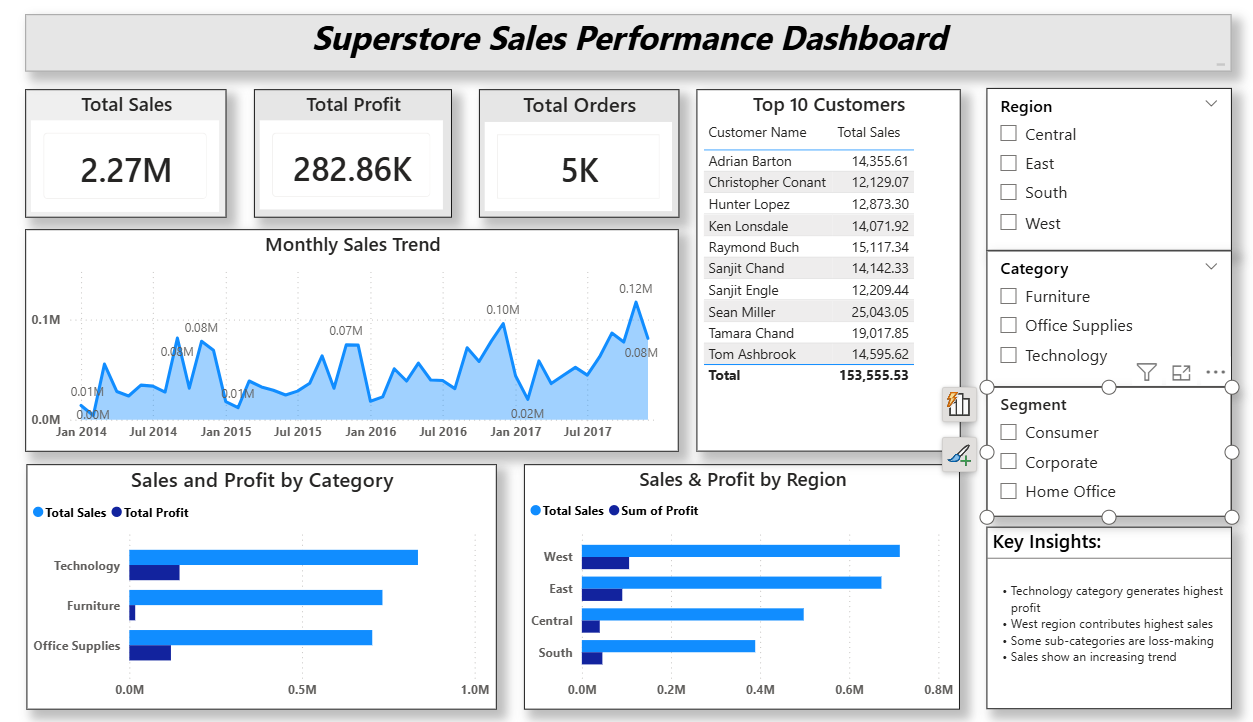

This screenshot's page, from the dashboard's own definition file:
{"tool":"powerbi","page":{"name":"Page 1","canvas":[1280,720],"ordinal":0},"visuals":[{"type":"cardVisual","title":"Total Sales","fields":{"Data":["superstore superstore.Total Sales"]},"box":[59.9,99,196.9,126],"z":0},{"type":"cardVisual","title":"Total Profit","fields":{"Data":["superstore superstore.Total Profit"]},"box":[283.7,99,193.2,126],"z":1000},{"type":"cardVisual","title":"Total Orders","fields":{"Data":["superstore superstore.Total Orders"]},"box":[503.8,99,195.7,126],"z":2000},{"type":"textbox","title":"Superstore Sales Performance Dashboard","box":[59.9,25.7,1180,56.3],"z":4000},{"type":"lineChart","title":"Monthly Sales Trend","fields":{"Y":["superstore superstore.Total Sales"],"Category":["superstore superstore.Order Date.Variation.Date Hierarchy.Year","superstore superstore.Order Date.Variation.Date Hierarchy.Month"]},"box":[59.9,236,639.5,217.7],"z":5000},{"type":"clusteredBarChart","title":"Sales and Profit by Category","fields":{"Y":["superstore superstore.Total Sales","superstore superstore.Total Profit"],"Category":["superstore superstore.Category"]},"box":[61.1,465.9,459.8,239.7],"z":6000},{"type":"clusteredBarChart","title":"Sales & Profit by Region","fields":{"Category":["superstore superstore.Region"],"Y":["superstore superstore.Total Sales","Sum(superstore superstore.Profit)"]},"box":[547.8,465.9,426.8,239.7],"z":6001},{"type":"tableEx","title":"Top 10 Customers","fields":{"Values":["superstore superstore.Customer Name","superstore superstore.Total Sales"]},"box":[716.6,99,258,354.6],"z":6002},{"type":"slicer","fields":{"Values":["superstore superstore.Region"]},"box":[1000.3,97.8,239.7,159],"z":6003},{"type":"slicer","fields":{"Values":["superstore superstore.Category"]},"box":[1000.3,256.8,239.7,133.3],"z":6004},{"type":"slicer","fields":{"Values":["superstore superstore.Segment"]},"box":[1000.3,390.1,239.7,127.2],"z":6005},{"type":"textbox","title":"Key Insights:","box":[1000.3,527,239.7,178.5],"z":6006}]}

Visuals, with their boxes in screenshot pixels (x1, y1, x2, y2), scaled from the page's 1280x720 canvas onto the 1253x722 screenshot:
"Total Sales" cardVisual: bbox=(59, 99, 251, 226)
"Total Profit" cardVisual: bbox=(278, 99, 467, 226)
"Total Orders" cardVisual: bbox=(493, 99, 685, 226)
"Superstore Sales Performance Dashboard" textbox: bbox=(59, 26, 1214, 82)
"Monthly Sales Trend" lineChart: bbox=(59, 237, 685, 455)
"Sales and Profit by Category" clusteredBarChart: bbox=(60, 467, 510, 708)
"Sales & Profit by Region" clusteredBarChart: bbox=(536, 467, 954, 708)
"Top 10 Customers" tableEx: bbox=(701, 99, 954, 455)
slicer - superstore superstore.Region: bbox=(979, 98, 1214, 258)
slicer - superstore superstore.Category: bbox=(979, 258, 1214, 391)
slicer - superstore superstore.Segment: bbox=(979, 391, 1214, 519)
"Key Insights:" textbox: bbox=(979, 528, 1214, 707)
